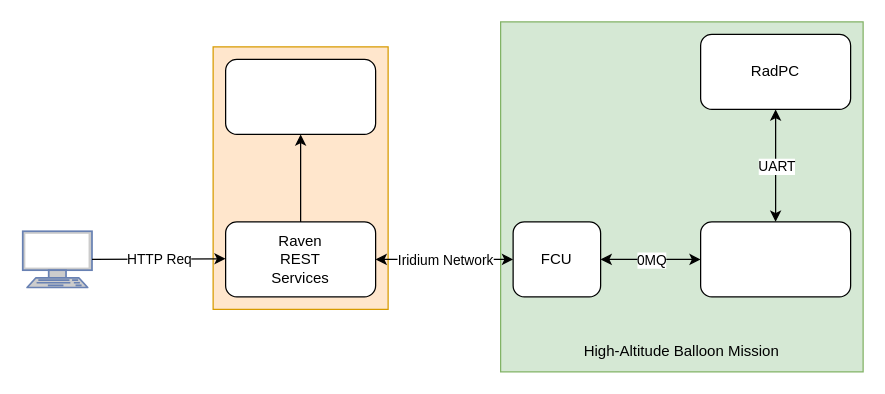
The diagram is 885 pixels wide and 394 high, and some of its shapes have lost their labels. The centre of each missing label's shape, as x and y in pixels:
Callback Server: pixel 300 96
RadPi: pixel 775 259
